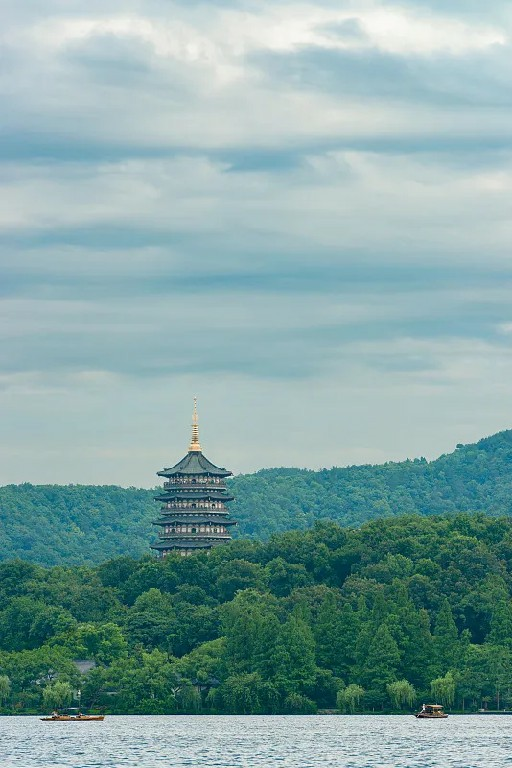Leifeng: (150, 395, 240, 567)
